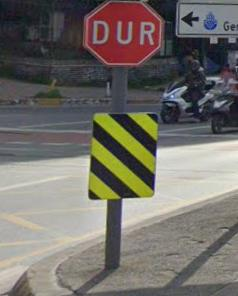stop: (82, 2, 165, 65)
